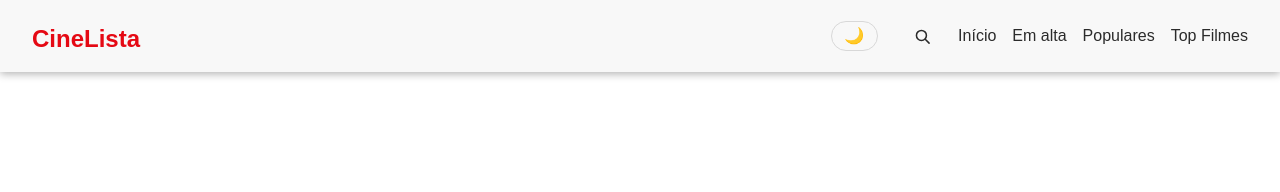
Test case: Header › renderiza fallback elegante quando a sugestao nao possui poster
Click the button named "Abrir busca" at (922, 36), box [902, 16, 942, 56]
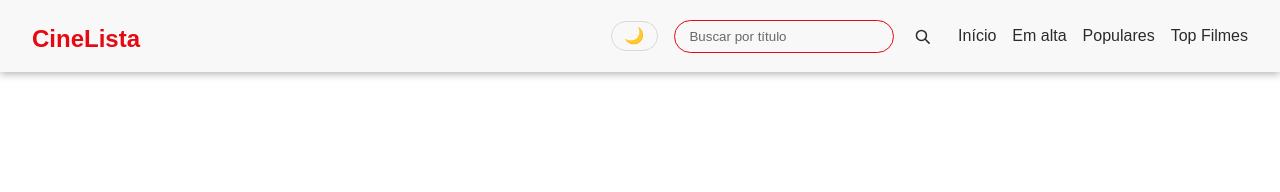
Type "Alien" into the search field with placeholder "Buscar por título" at (784, 36), box [674, 20, 894, 52]
Wait 300 ms
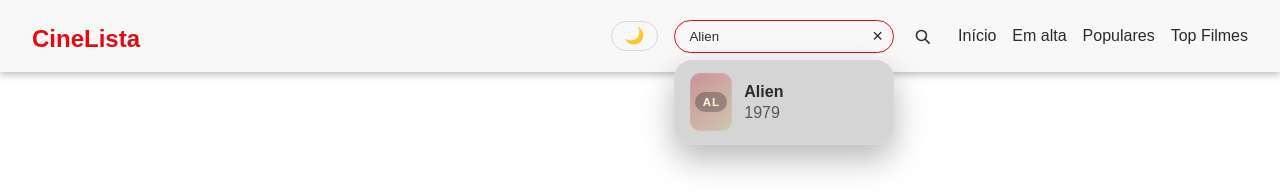
Expected: the element named "Sem pôster para Alien" is shown, [690, 74, 732, 132]
Expected: the text "AL" is shown, [696, 92, 727, 112]
